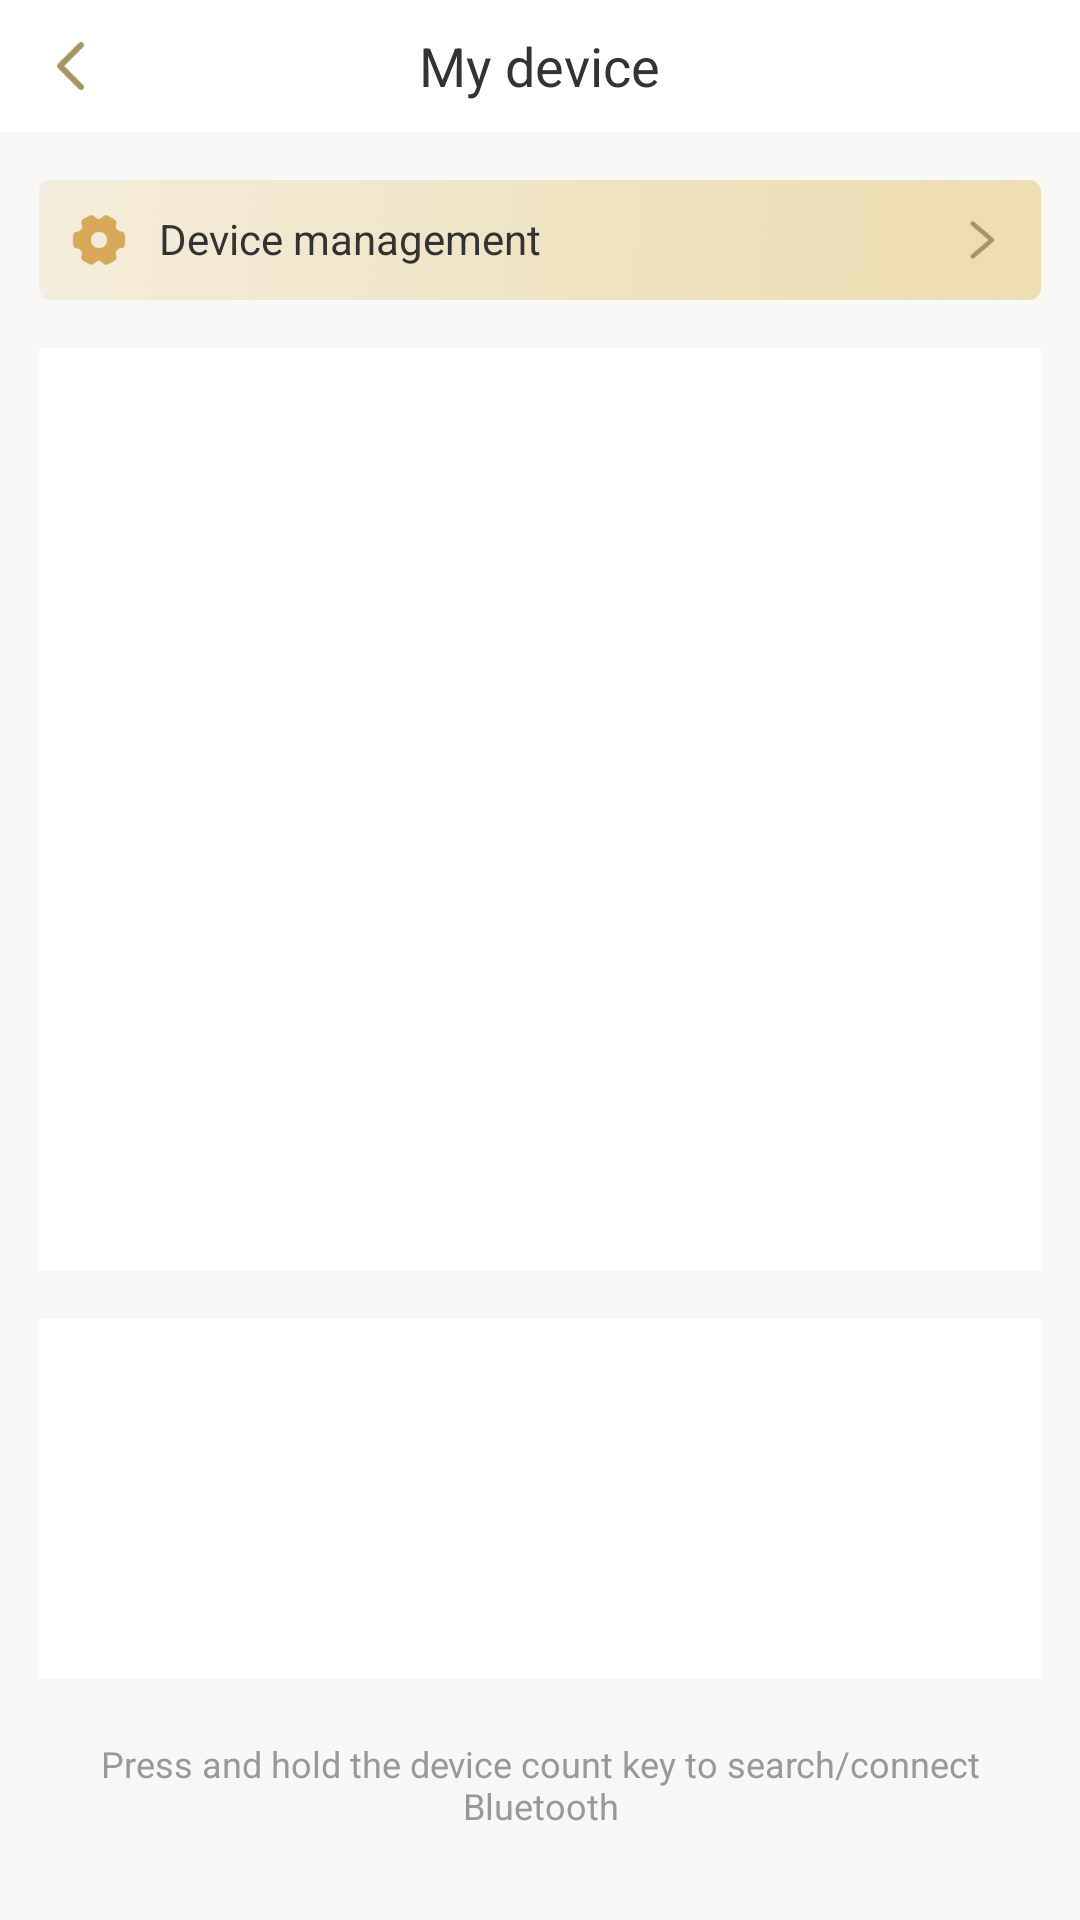

Screen size 1080px×1920px. Icon name, then its box in pixels as (x1, y1, x2, y2):
back: (57, 42, 84, 90)
more: (970, 221, 994, 259)
